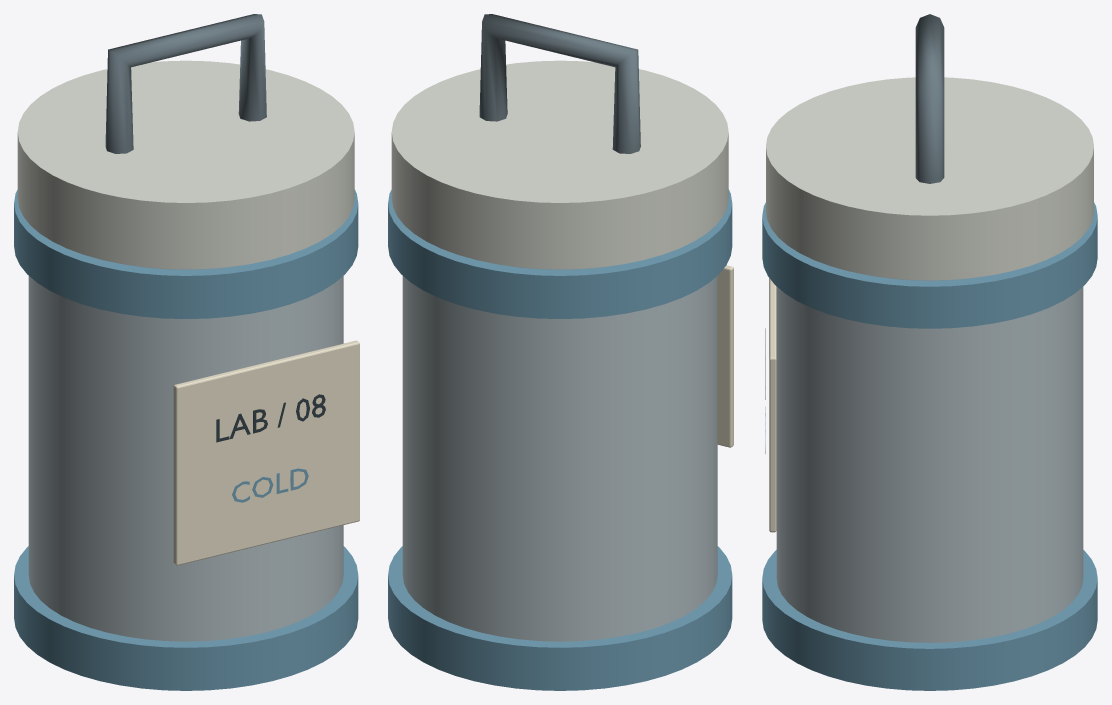
The model's file is loot_lab_sample.glb.
The picture shows the model from 3 angles, left to right: view 1: azimuth 30°, elevation 25°; view 2: azimuth 150°, elevation 25°; view 3: azimuth 270°, elevation 25°; orthographic projection. The views are drawn at different scales.
Parts seen in each view (by area): view 1: loot_lab_sample; view 2: loot_lab_sample; view 3: loot_lab_sample.
Part boxes in pixels (bbox=[...]): loot_lab_sample: bbox=[14, 14, 359, 690]; loot_lab_sample: bbox=[388, 14, 733, 690]; loot_lab_sample: bbox=[762, 14, 1097, 690].
Bounding box in the file's own units: 0.094 × 0.1763 × 0.094.
